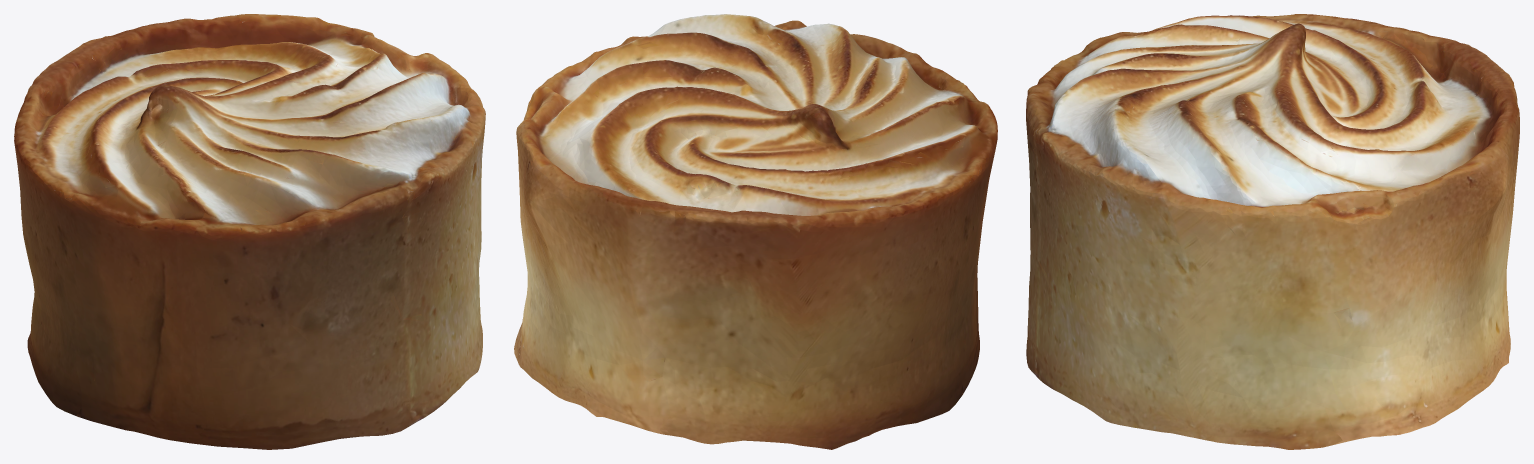
The model's file is tartaleta-limon-solo.glb.
3 views of the same model, side by side, from view 1: azimuth 30°, elevation 25°; view 2: azimuth 150°, elevation 25°; view 3: azimuth 270°, elevation 25° (orthographic). The views are drawn at different scales.
Parts seen in each view (by area): view 1: Object_2; view 2: Object_2; view 3: Object_2.
Part boxes in pixels (x1=…): Object_2: x1=14, y1=14, x2=485, y2=449; Object_2: x1=514, y1=14, x2=997, y2=449; Object_2: x1=1026, y1=14, x2=1519, y2=449.
Bounding box in the file's own units: 0.085 × 0.0554 × 0.0842.
Materials: 1 (1 with a texture image).
